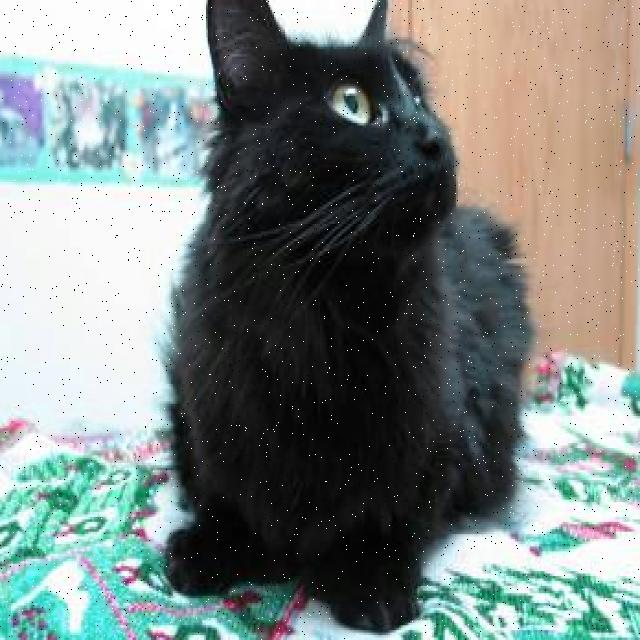Cat: (193, 0, 473, 298)
